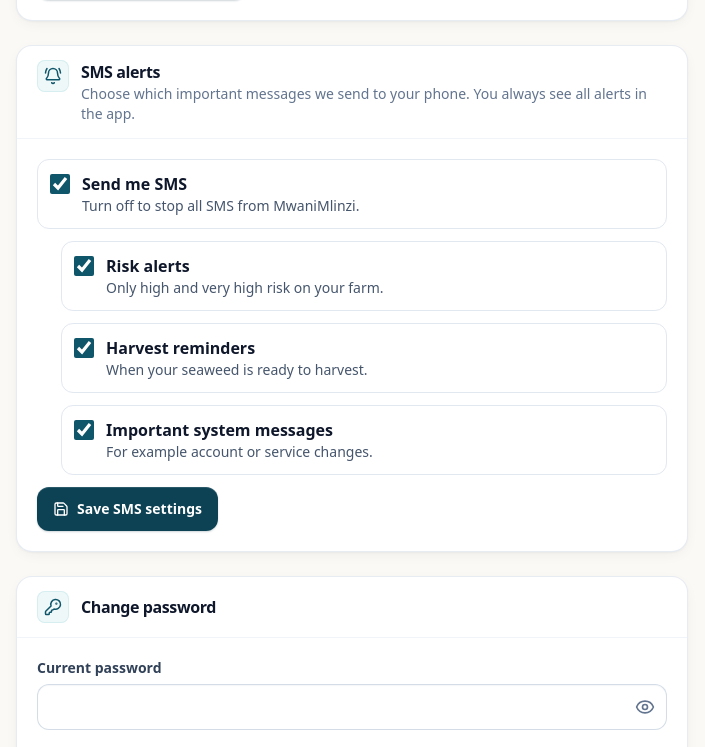
Test case: saves SMS preferences; sub-options are disabled when SMS is off
The width and height of the screenshot is (705, 747).
(page scrolled)
Click the checkbox labelled "Harvest reminders When your seaweed is ready to harvest." at (84, 348), box [74,338,94,358]
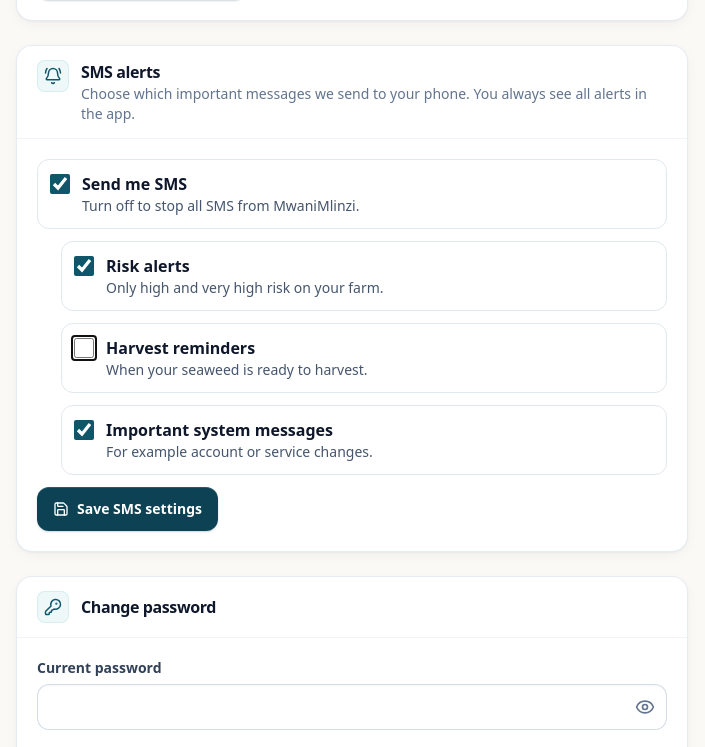
Click the checkbox labelled "Send me SMS Turn off to stop all SMS from MwaniMlinzi." at (60, 184), box [50,174,70,194]
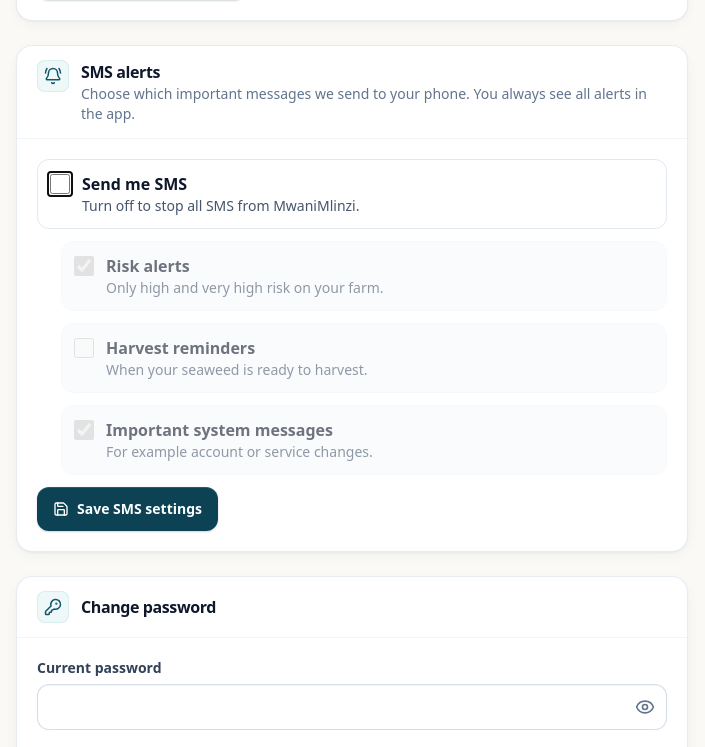
Expected: the checkbox labelled "Risk alerts Only high and very high risk on your farm." is disabled, [74,256,94,276]
Click the button "Save SMS settings" at (128, 509), box [37,487,218,531]
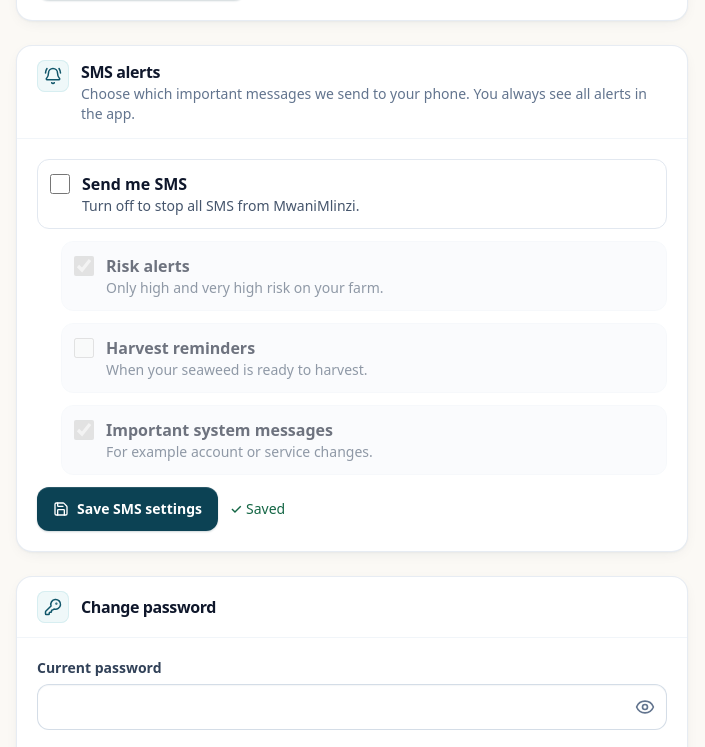
Expected: the message shows "Saved", [246,499,285,518]
